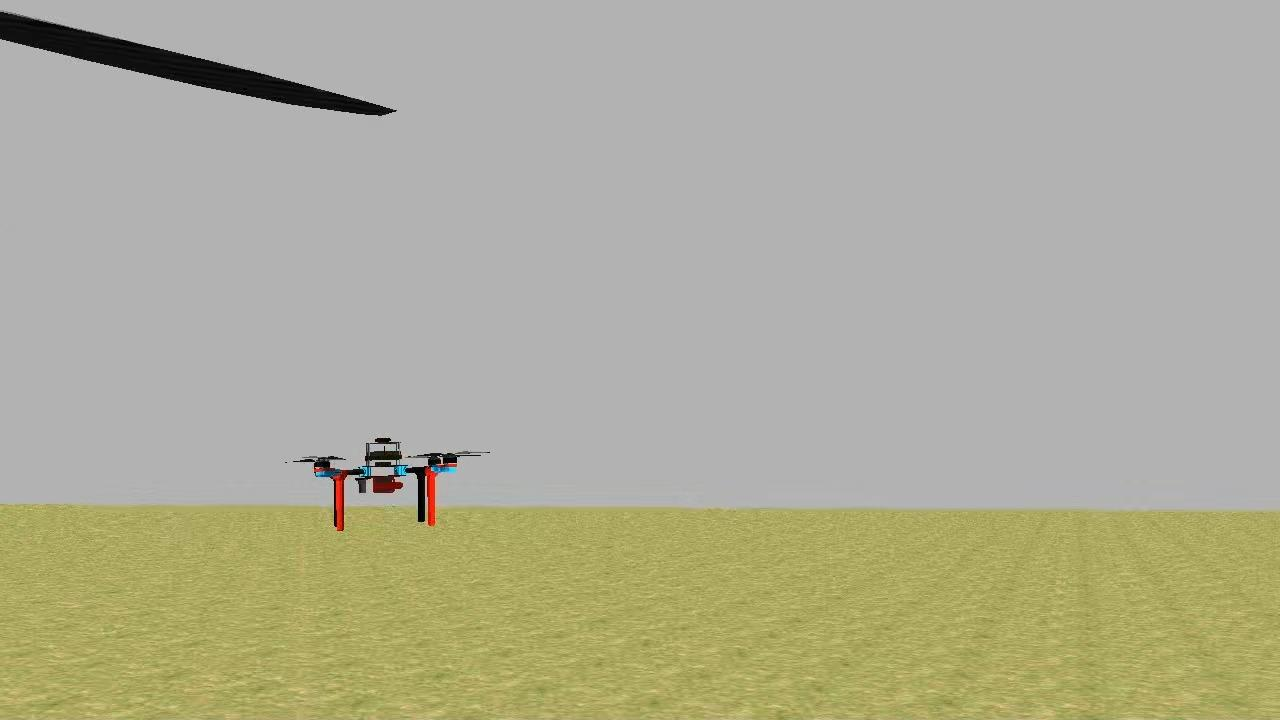UAV: (306, 438, 458, 538)
